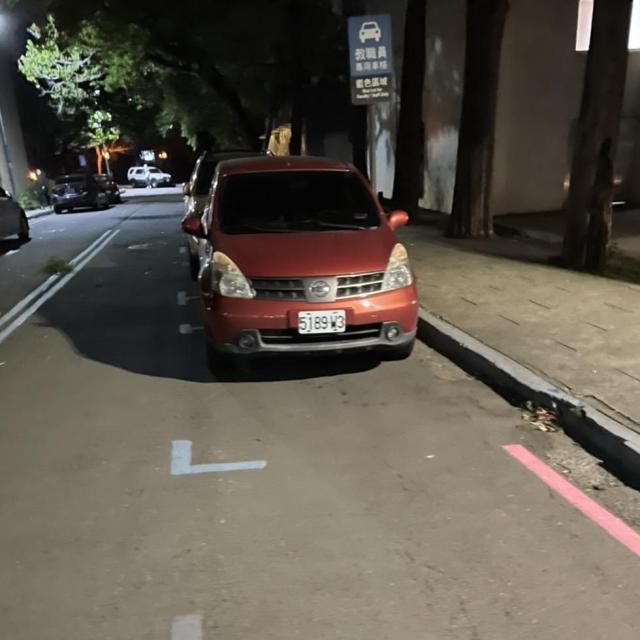W: (290, 302, 353, 339)
